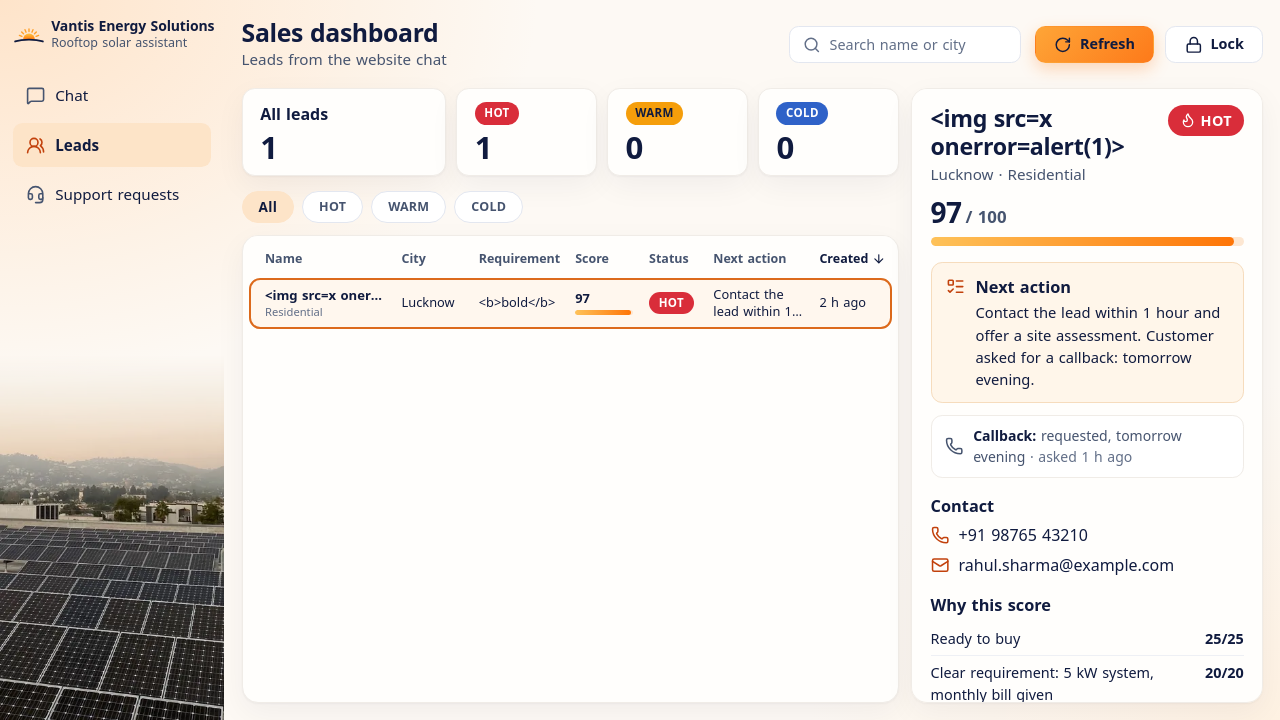
customer-typed text › is always plain text, never HTML
expect the heading "Why this score" is shown: met, box left=931, top=594, right=1051, bottom=616
Click the link "Support requests": (103, 194) left=26, top=184, right=179, bottom=204
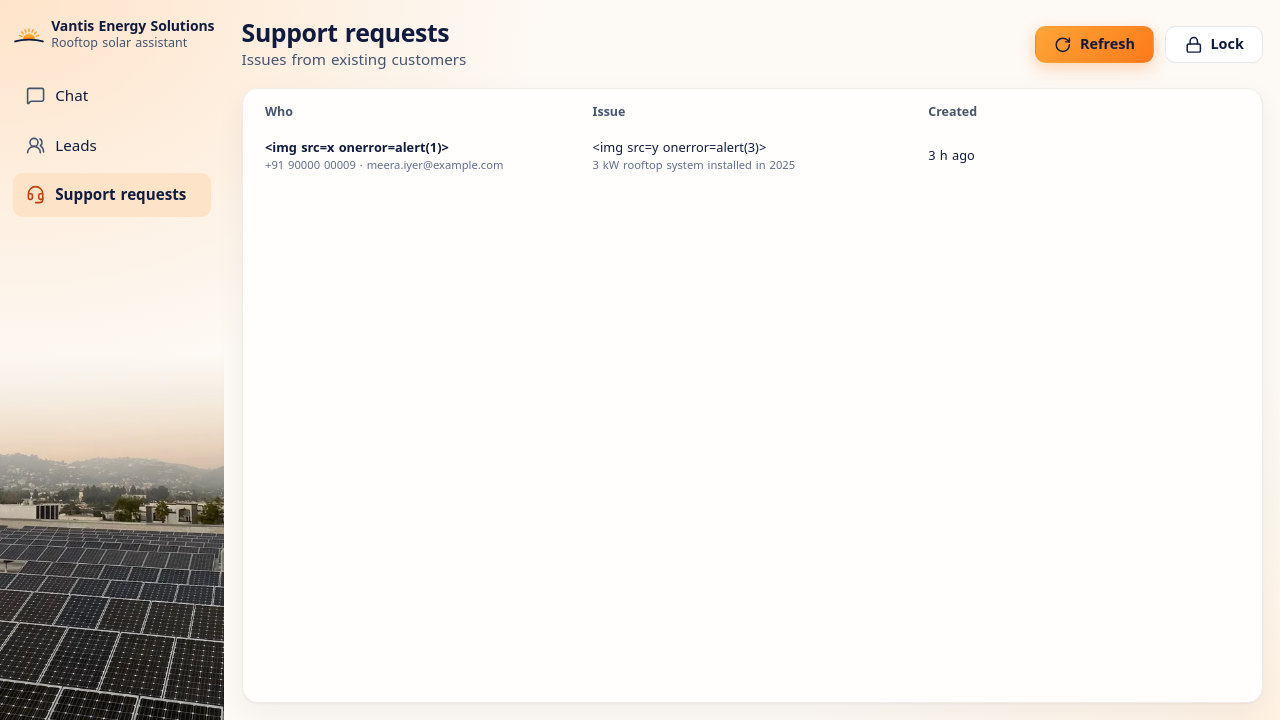
expect the text "<img src=x onerror=alert(1)>" is shown: met, box left=265, top=138, right=449, bottom=156
expect the text "<img src=y onerror=alert(3)>" is shown: met, box left=593, top=138, right=766, bottom=156
